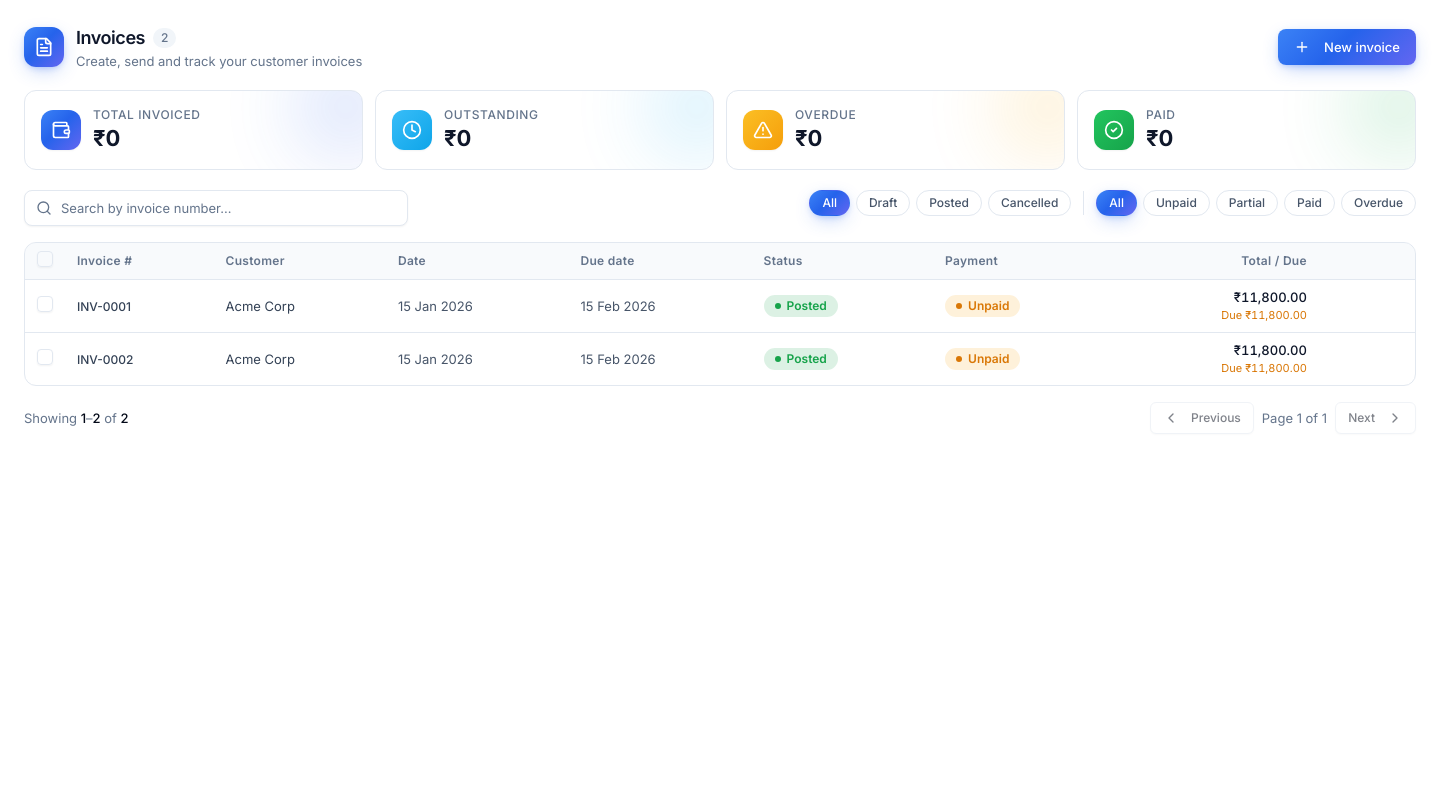
Test: InvoicesView › opens the payment dialog for a single-customer selection
This screenshot has width=1440, height=810.
Click the checkbox named "Select INV-0001": (45, 304) x1=37 y1=296 x2=53 y2=312
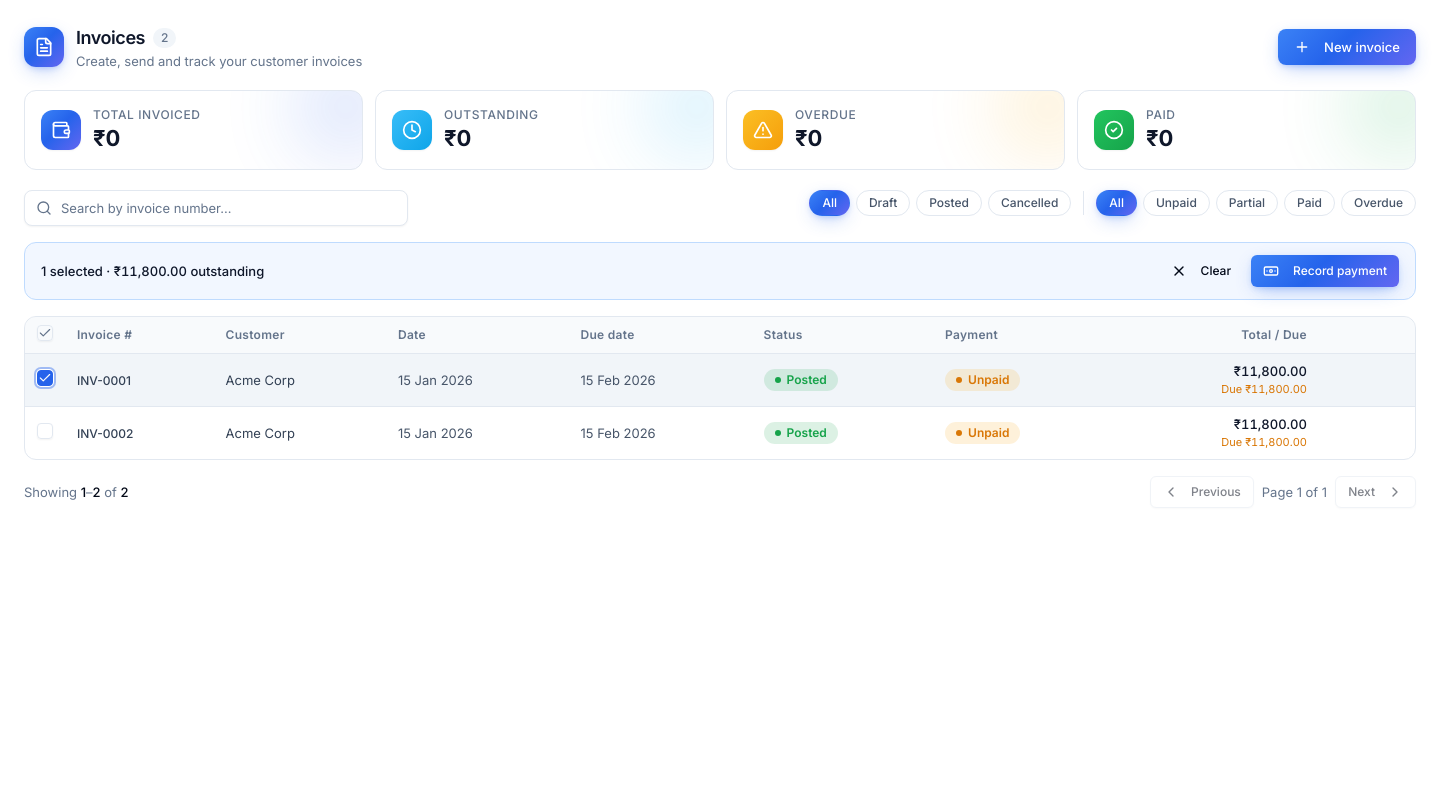
Click the checkbox named "Select INV-0002": (45, 431) x1=37 y1=423 x2=53 y2=439
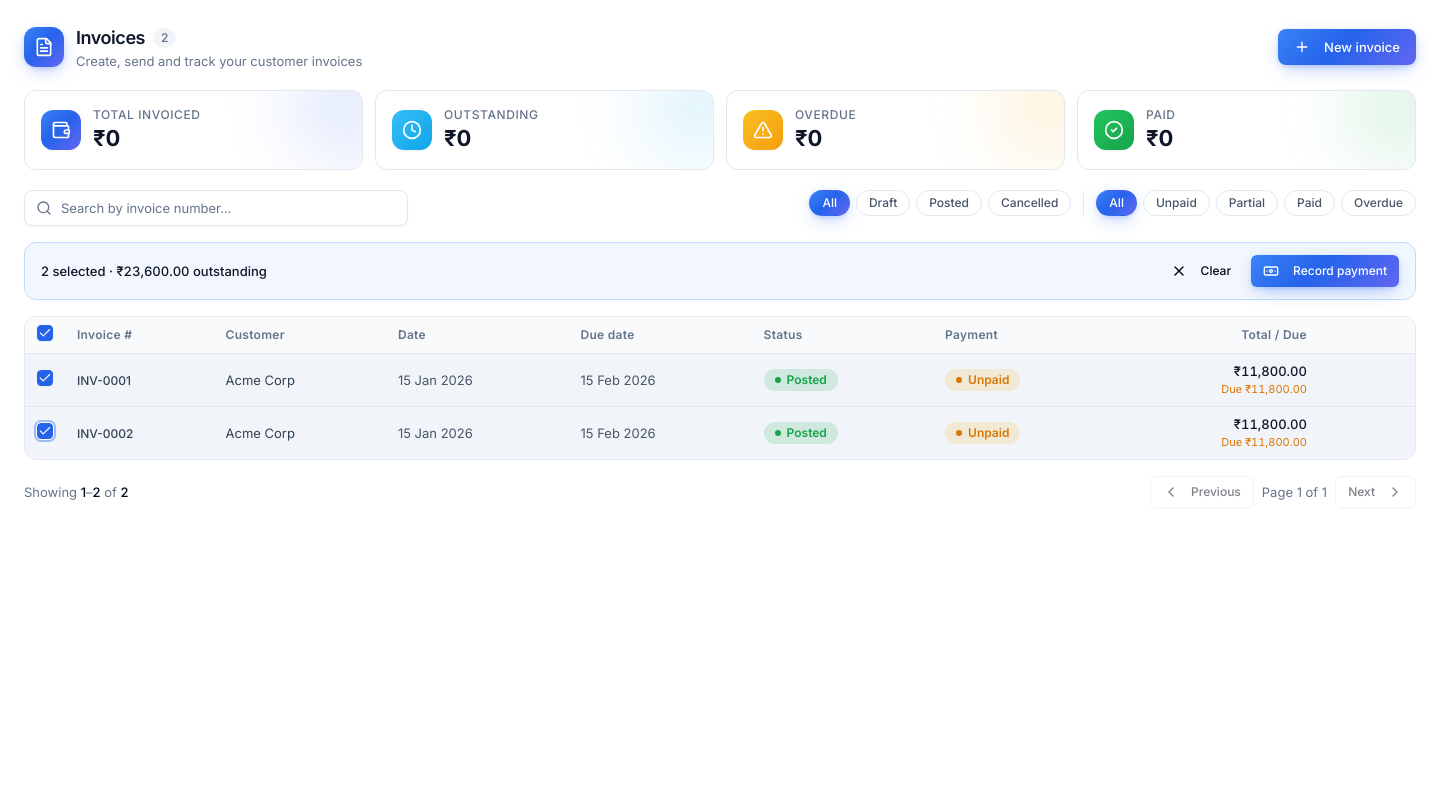
Now the button "Record payment" is enabled
Click the button "Record payment": (1325, 271) x1=1251 y1=255 x2=1399 y2=287
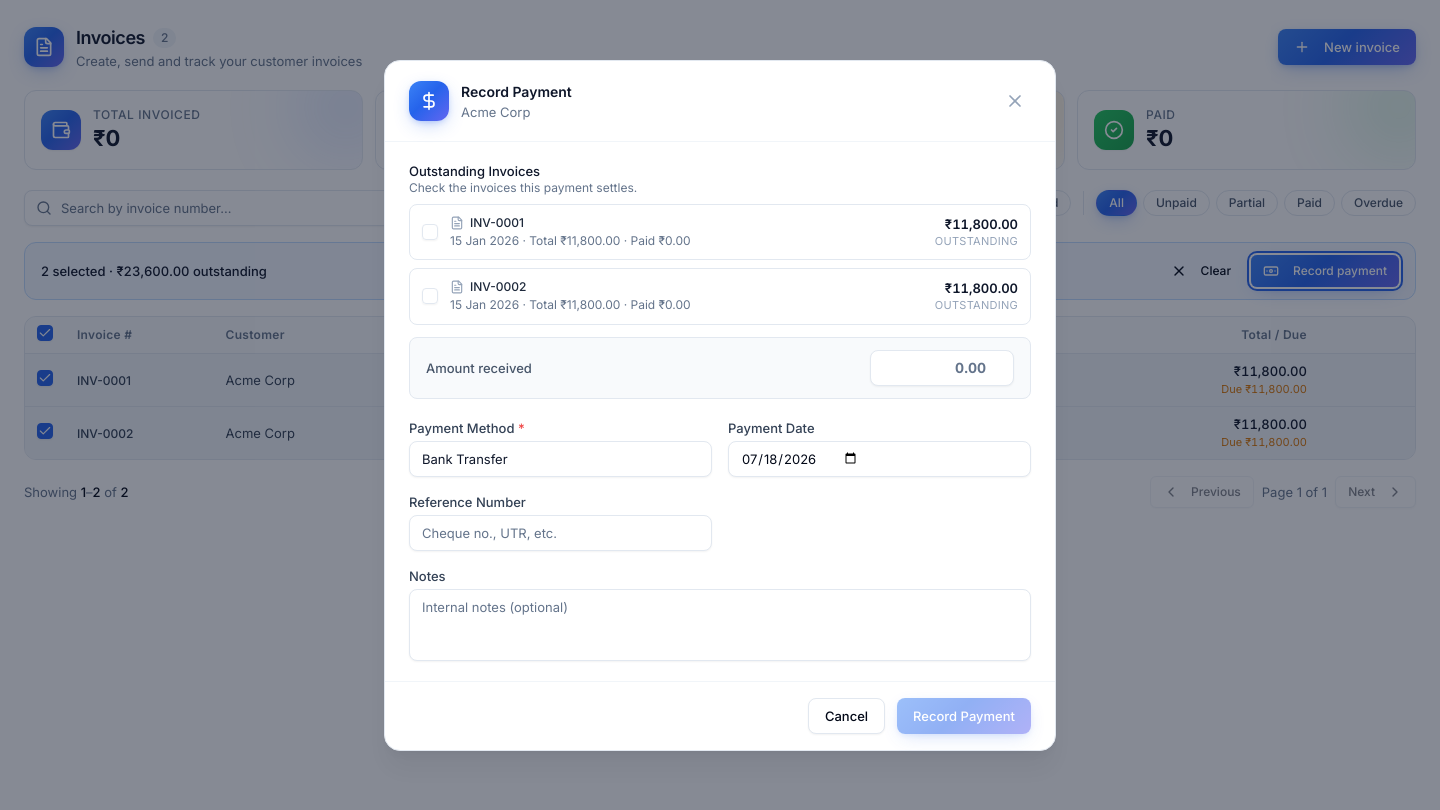
Now the dialog named "Record customer payment" is shown
